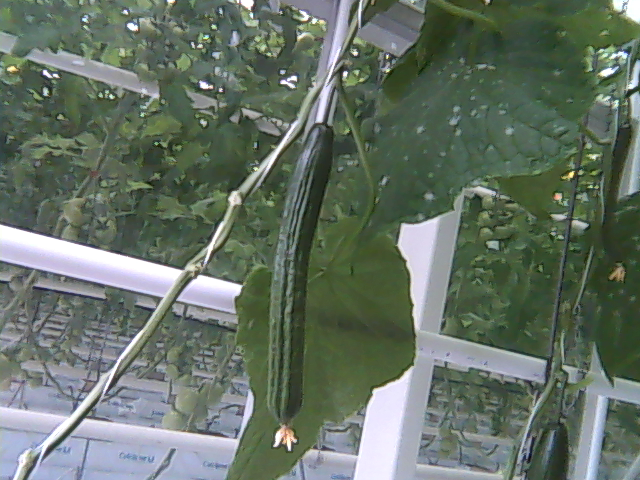concombre: (262, 115, 336, 454), (515, 421, 576, 480)
